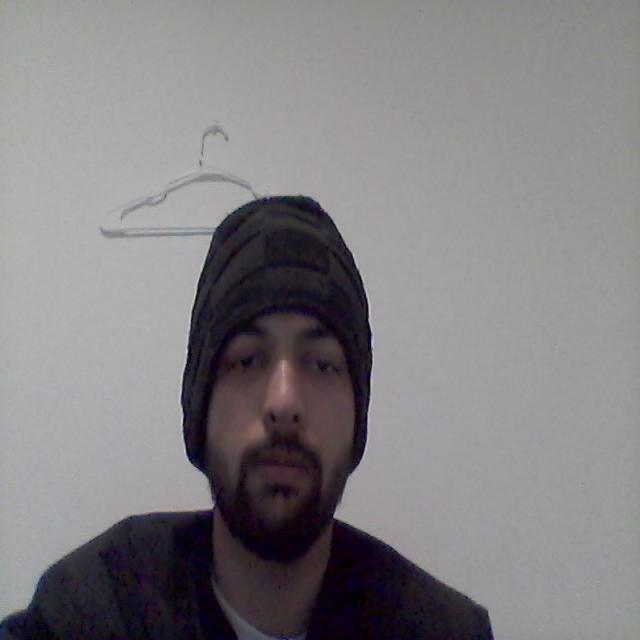cap: (144, 177, 425, 444)
